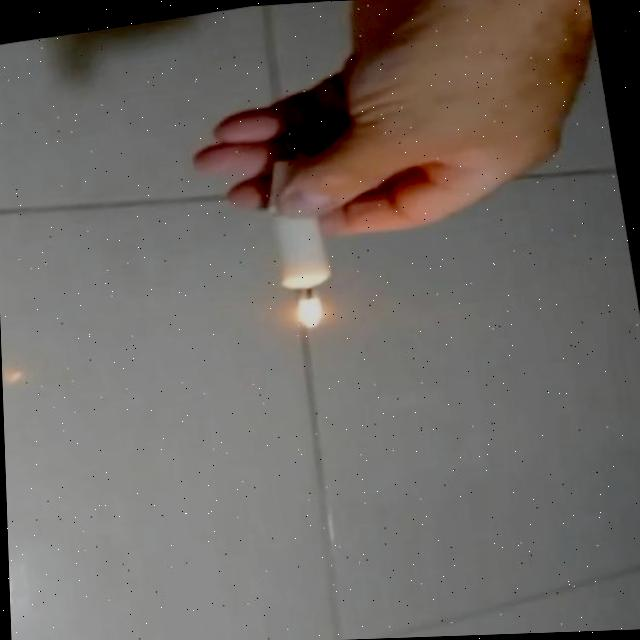fire: (283, 282, 337, 331)
